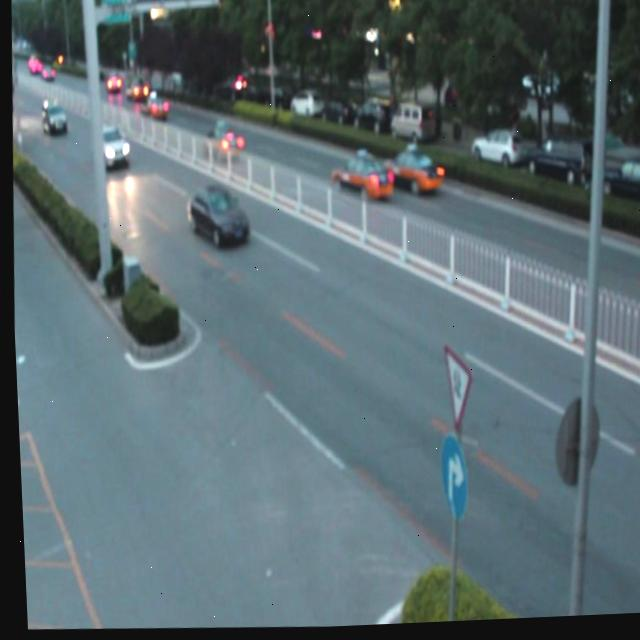car: (181, 187, 247, 250), (331, 158, 390, 206), (381, 152, 437, 200), (199, 122, 242, 162), (92, 130, 127, 166), (134, 94, 167, 122)
